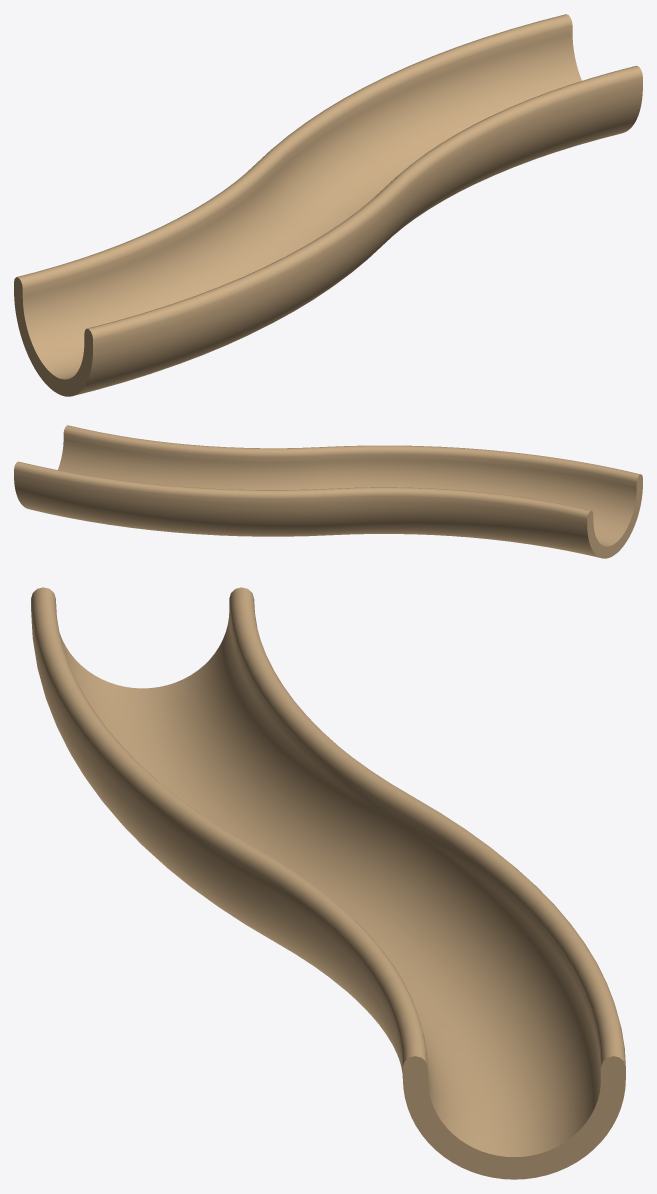
Rendered from rail_s_1x3_l2.glb.
3 renders of one model, top to bottom at view 1: azimuth 30°, elevation 25°; view 2: azimuth 150°, elevation 25°; view 3: azimuth 270°, elevation 25°, orthographic. The views are drawn at different scales.
Visible parts, largest first — view 1: rail_s_1x3_l2_lod0; view 2: rail_s_1x3_l2_lod0; view 3: rail_s_1x3_l2_lod0.
Boxes of the visible parts, box(x1,y1,x2,y2) form: rail_s_1x3_l2_lod0: box(14, 14, 642, 396); rail_s_1x3_l2_lod0: box(14, 425, 642, 558); rail_s_1x3_l2_lod0: box(31, 587, 625, 1179).
Size of what is drawn, in the model's own units: 0.179 by 0.022 by 0.096.
